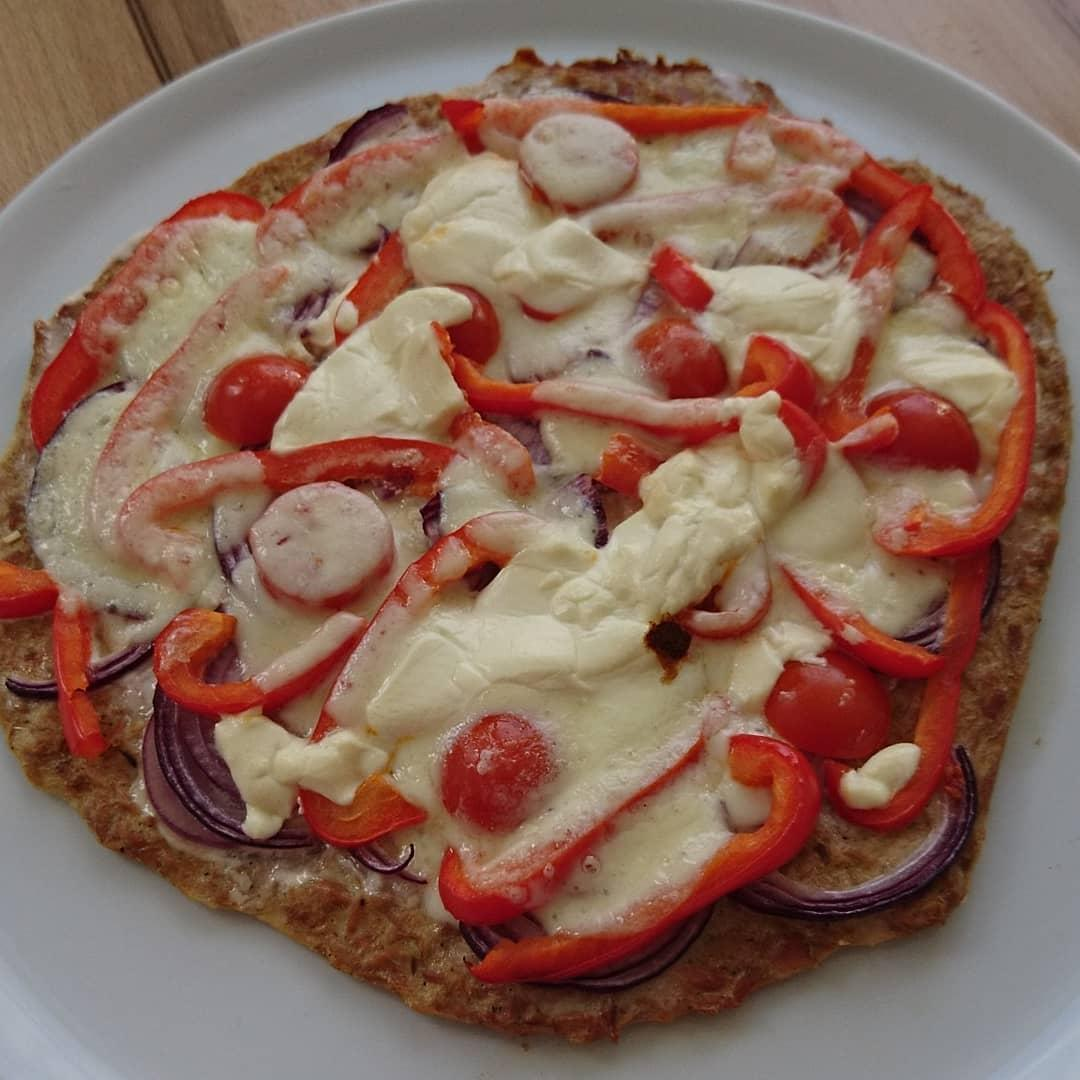Onion: (735, 736, 983, 942), (129, 673, 327, 860), (426, 897, 728, 994), (9, 626, 161, 711), (332, 830, 441, 893), (198, 496, 265, 591)
Peppers: (460, 726, 819, 983), (22, 187, 275, 461), (84, 258, 303, 560), (290, 518, 485, 857), (105, 431, 477, 588), (816, 519, 999, 835), (428, 726, 709, 931), (870, 303, 1037, 567), (586, 418, 780, 642), (417, 329, 830, 429), (137, 599, 369, 709), (849, 147, 990, 322), (764, 553, 955, 681), (451, 89, 770, 162), (262, 119, 458, 220), (317, 223, 433, 355), (835, 174, 933, 303), (41, 599, 118, 752), (724, 104, 855, 187), (757, 187, 875, 256), (632, 242, 721, 319), (0, 552, 60, 626)
Pizza: (5, 47, 1073, 1048)
Tomatoes: (755, 638, 907, 776), (429, 702, 575, 845), (240, 484, 393, 614), (198, 341, 326, 460), (517, 111, 642, 216), (623, 305, 740, 401), (859, 388, 988, 471), (422, 265, 508, 372)
